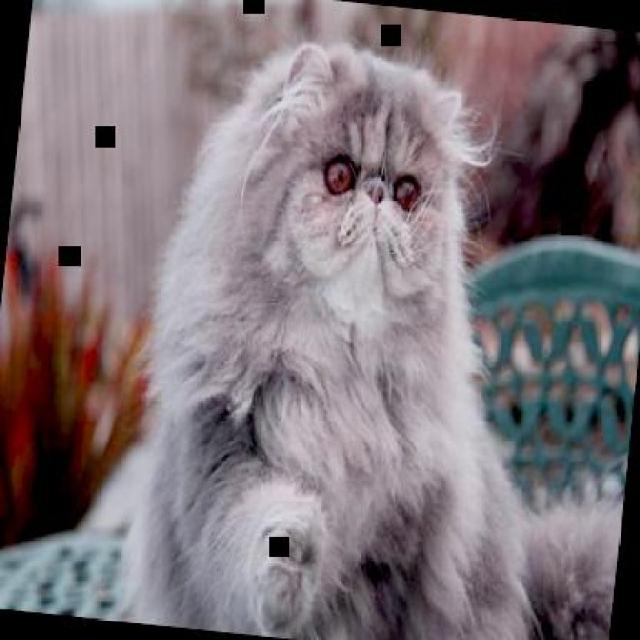cat: (117, 26, 638, 639)
